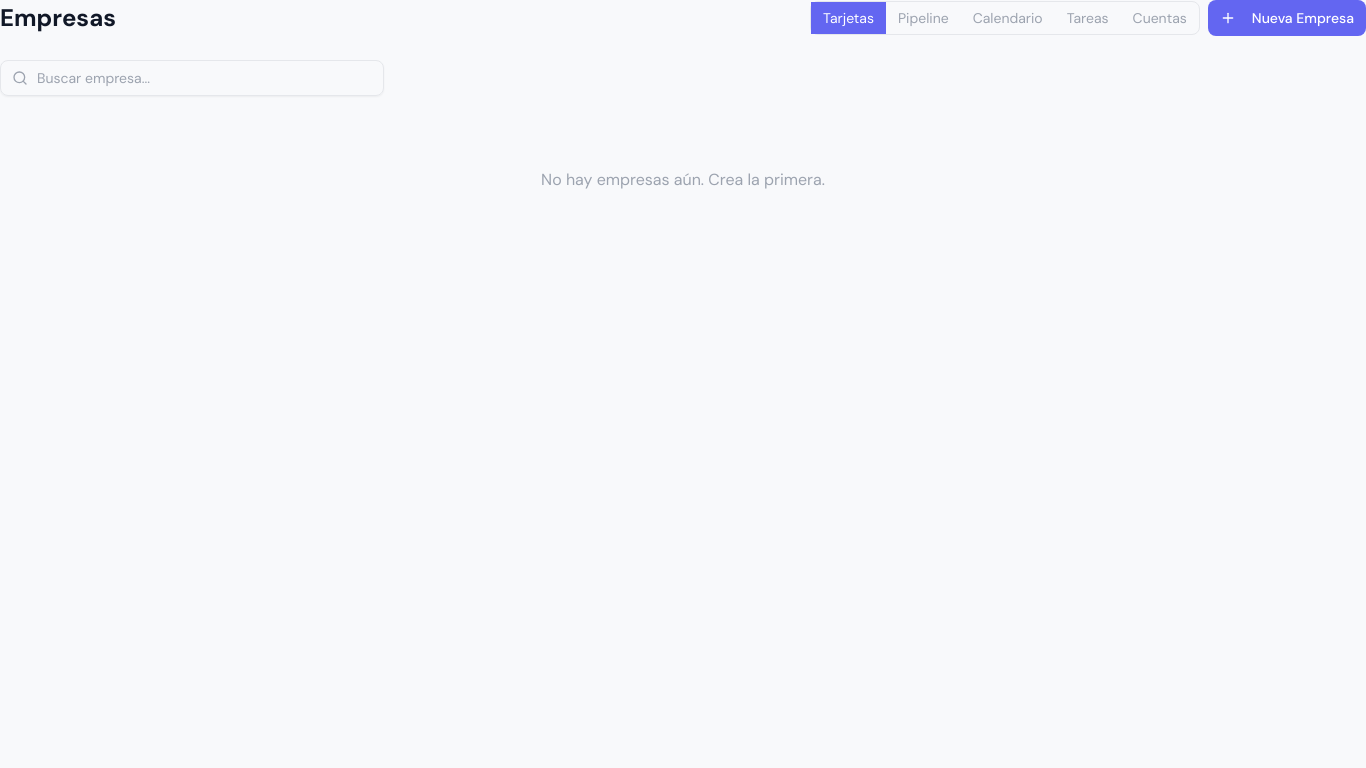
Scenario: EmpresasPage — channel health UI › loads the Eva accounts dropdown when opening the create modal
Check: the text "No hay empresas aún. Crea la primera." is shown, box x1=541 y1=169 x2=825 y2=190
Step 1. Click the button "Nueva Empresa" → (1287, 18), box x1=1208 y1=0 x2=1365 y2=36
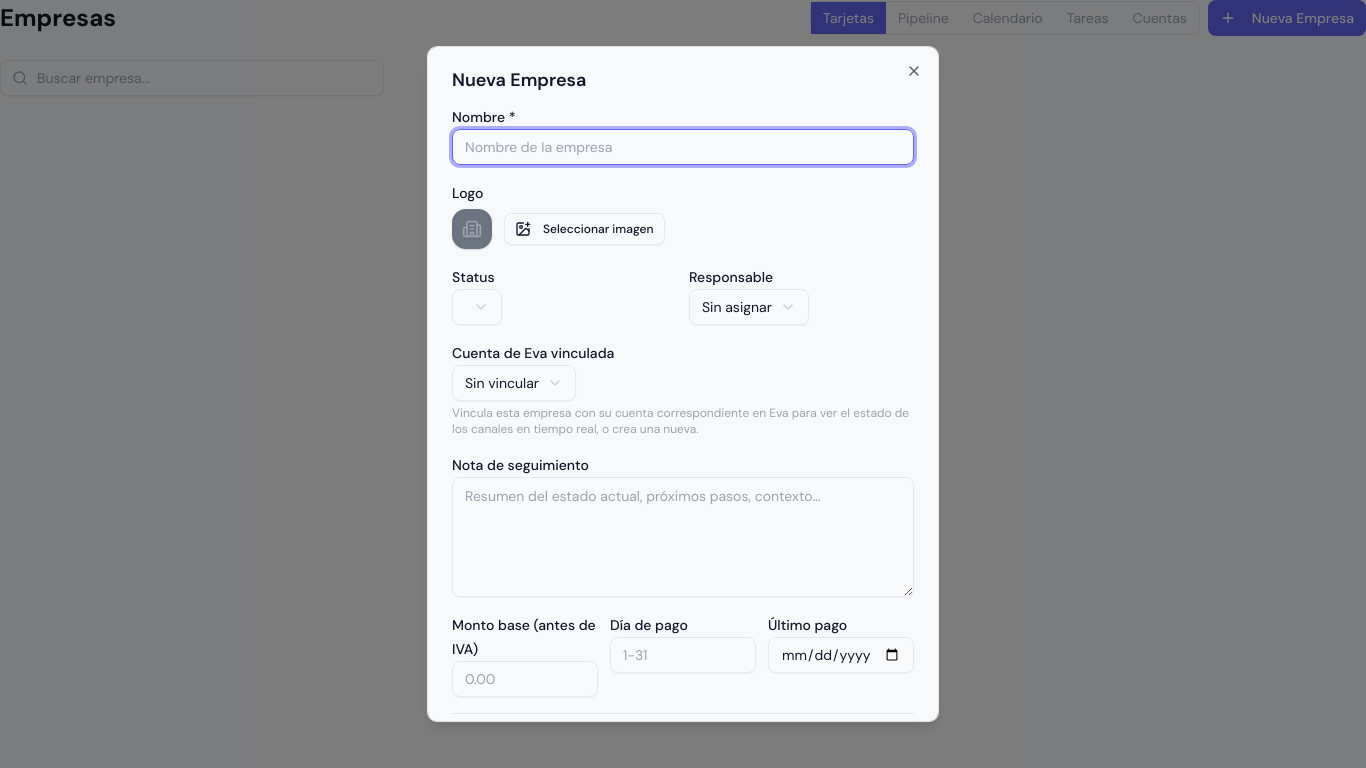
Check: the dropdown with test id "empresa-eva-account-select" is shown, box x1=452 y1=365 x2=576 y2=401
